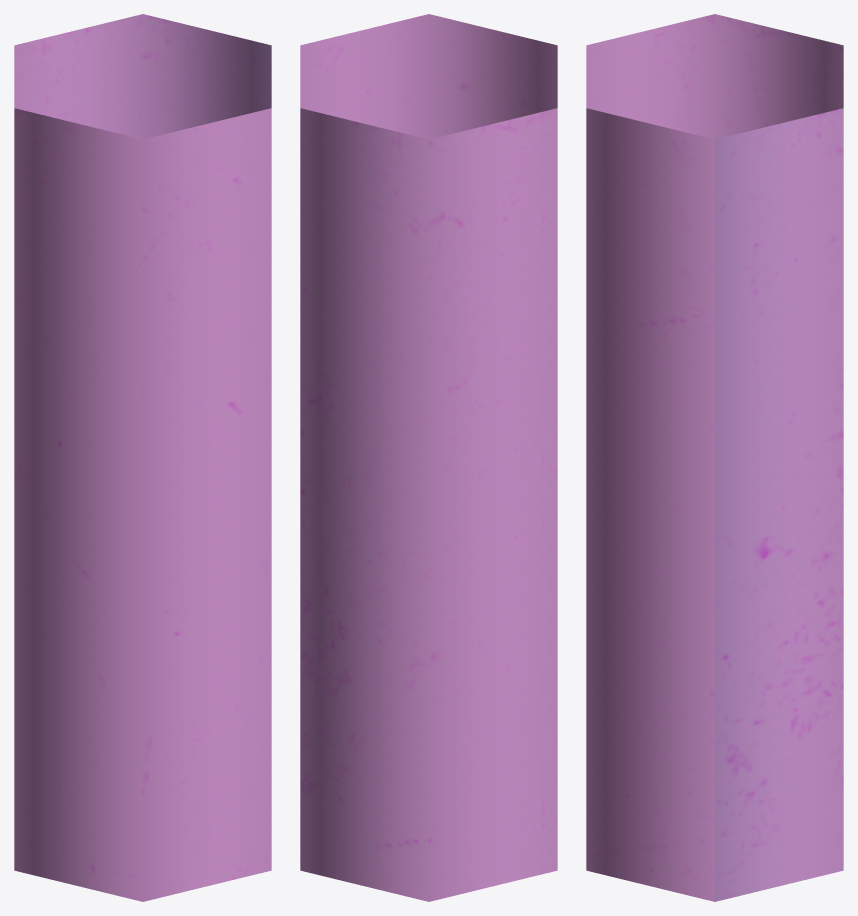
Rendered from PipeMedium_01_SM_Low.fbx.
The picture shows the model from 3 angles, left to right: view 1: azimuth 30°, elevation 25°; view 2: azimuth 150°, elevation 25°; view 3: azimuth 270°, elevation 25°; orthographic projection.
Visible parts, largest first — view 1: Medium_Single; view 2: Medium_Single; view 3: Medium_Single.
Boxes of the visible parts, box(x1,y1,x2,y2) form: Medium_Single: box(14, 14, 271, 901); Medium_Single: box(300, 14, 557, 901); Medium_Single: box(586, 14, 843, 901).
Bounding box in the file's own units: 52.96 × 150 × 45.86.
Materials: 1 (1 with a texture image).
